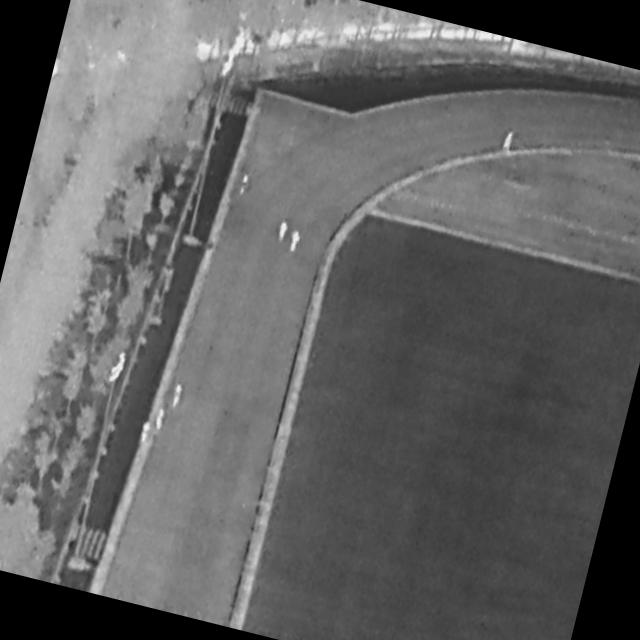person: (170, 385, 184, 411), (502, 131, 516, 156), (288, 231, 303, 254), (154, 408, 167, 432), (277, 222, 290, 244), (239, 175, 250, 198), (140, 422, 151, 445)
